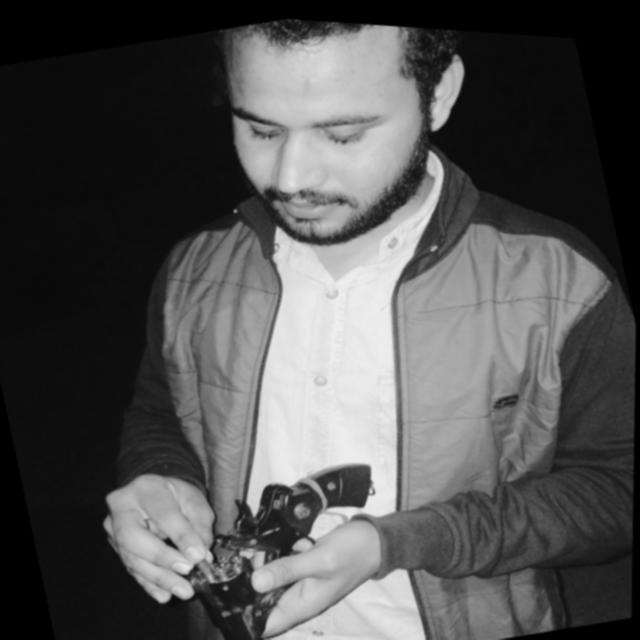weapon: (154, 439, 420, 640)
